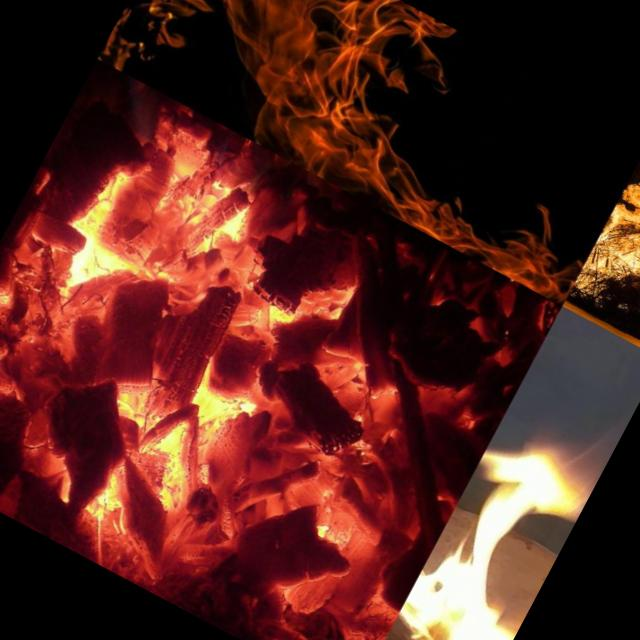fire: (0, 106, 452, 640), (97, 0, 640, 305), (354, 411, 605, 640), (573, 134, 640, 336)
